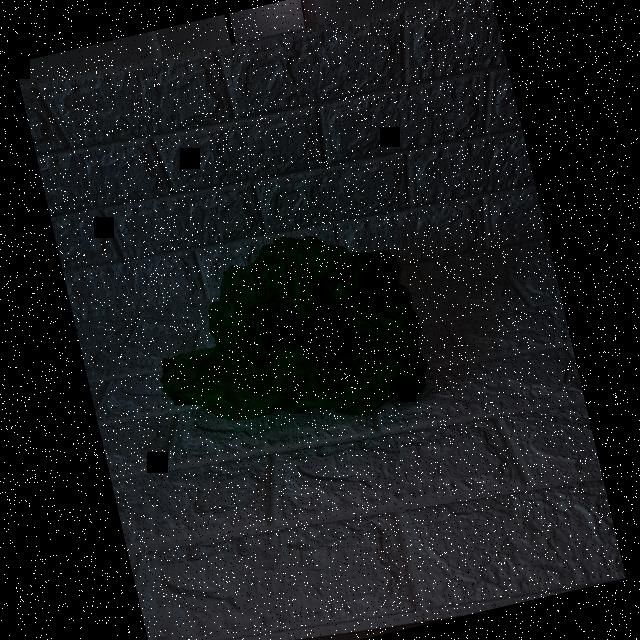plastic_bag: (114, 202, 450, 482)
